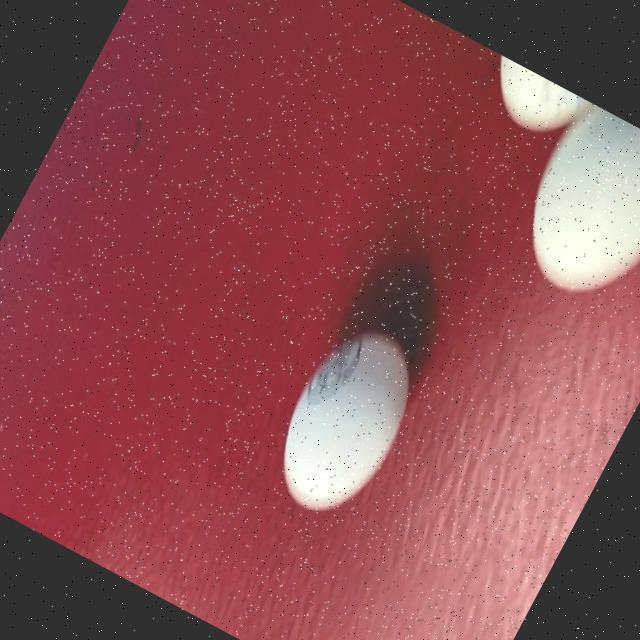ping-pong-ball: (249, 304, 444, 539)
